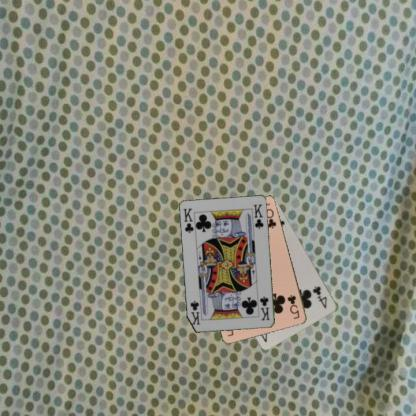4c: (310, 284, 328, 310)
5c: (285, 292, 301, 320)
Kc: (181, 206, 195, 235), (258, 294, 272, 322)
